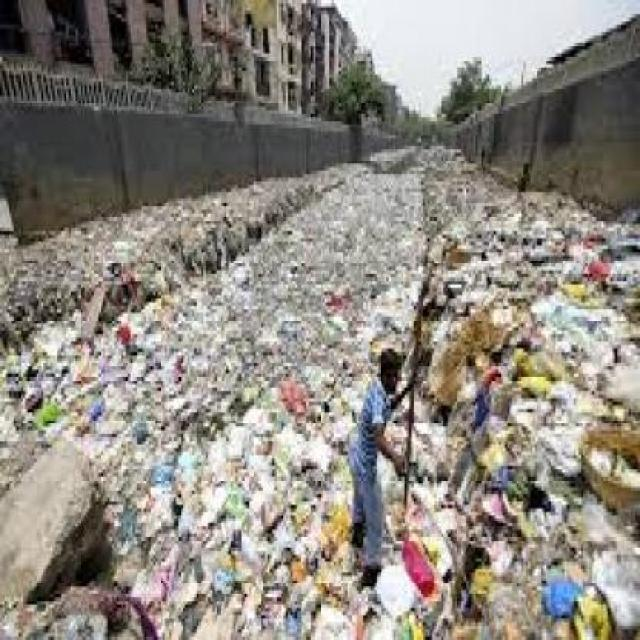garbage: (75, 188, 638, 330), (106, 352, 350, 636), (442, 345, 639, 636), (279, 139, 558, 196), (0, 331, 98, 441), (0, 200, 71, 328)
